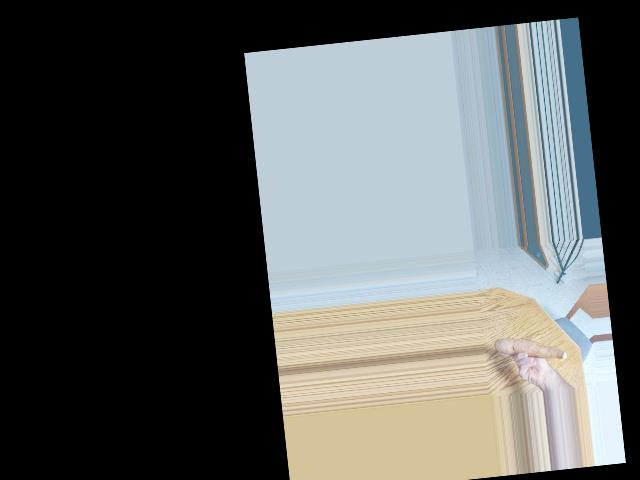sweet_potato: (495, 327, 569, 366)
